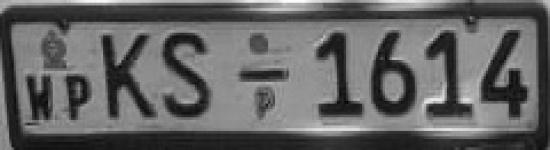-: (233, 61, 293, 88)
1: (311, 24, 366, 120), (424, 27, 476, 123)
4: (478, 25, 535, 122)
6: (369, 28, 422, 120)
K: (100, 28, 160, 125)
P: (63, 72, 98, 126)
S: (160, 24, 222, 122)
W: (21, 66, 62, 125)
